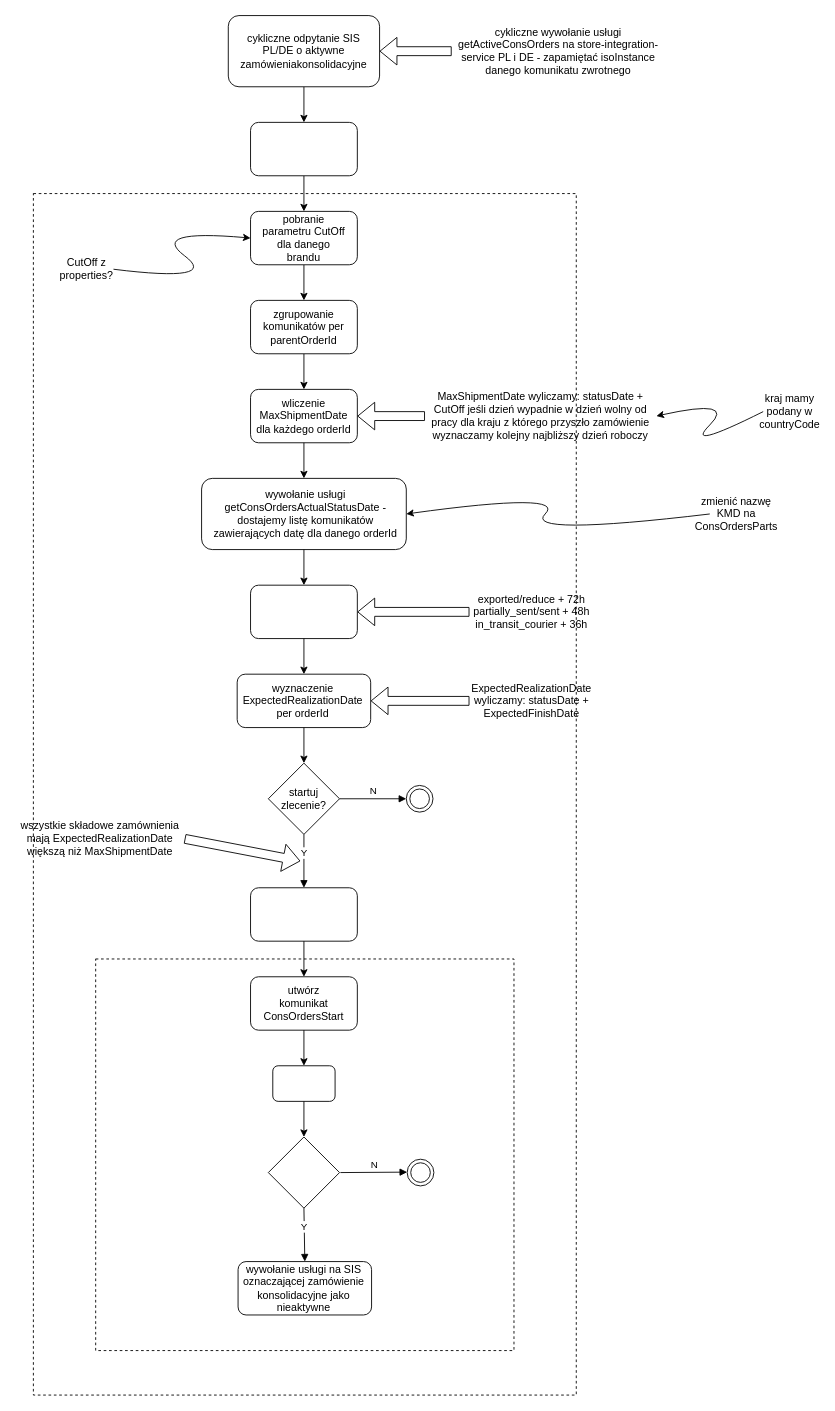
The diagram is 835 pixels wide and 1411 high, and some of its shapes have lost their labels. Each missing label, with the centre of its shape:
"pogrupuj komunikaty względem locationTo.id" belongs at point 303,914.
"poprawne wysłanie?" belongs at point 303,1172.
"wyznaczenie ExpectedFinishDate per orderId" belongs at point 303,611.
"wyślij do szyny" belongs at point 303,1083.
"zgrupowanie zamówień per brand" belongs at point 303,148.
